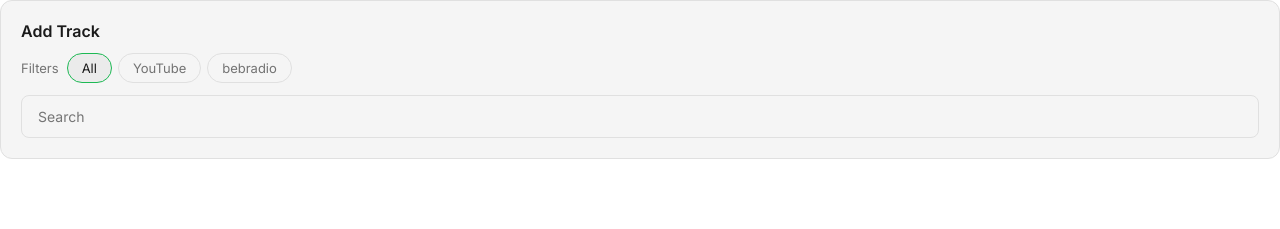
Test case: AddTrack › disables Add for mashups that are not ready
The width and height of the screenshot is (1280, 229).
Type "raw" into the field with placeholder "Search" at (640, 116), box x1=21 y1=95 x2=1259 y2=138
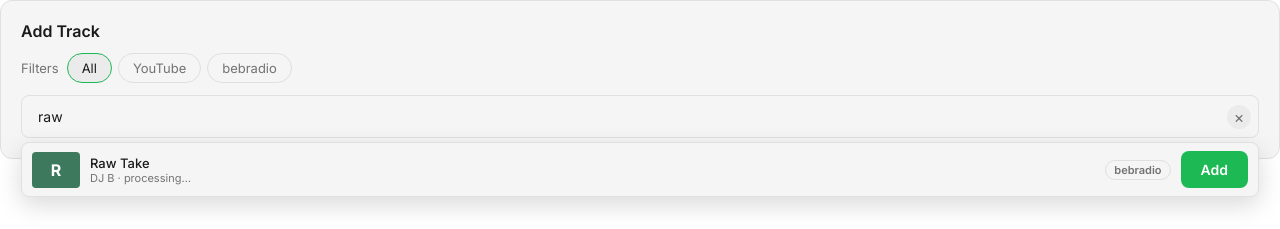
Expected: the text "Raw Take" is shown, x1=90 y1=154 x2=150 y2=170
Expected: the button "Add" is disabled, x1=1180 y1=151 x2=1248 y2=188
